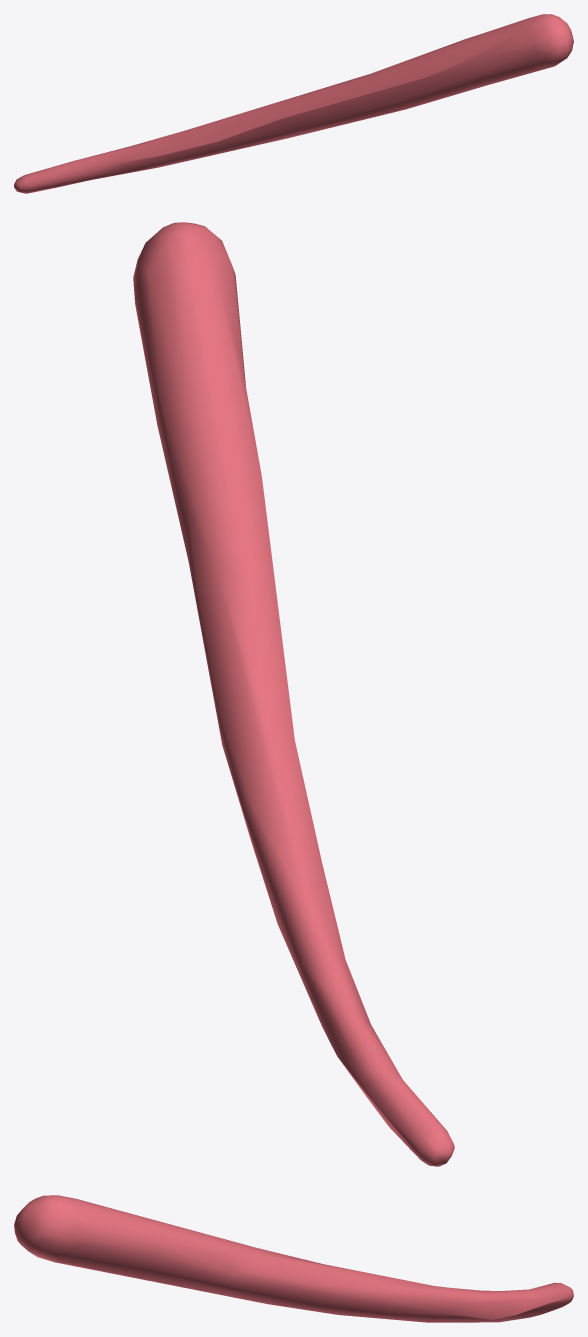
The model's file is fma9428_fj6118.glb.
The picture shows the model from 3 angles, top to bottom: view 1: azimuth 30°, elevation 25°; view 2: azimuth 150°, elevation 25°; view 3: azimuth 270°, elevation 25°; orthographic projection. The views are drawn at different scales.
Visible parts, largest first — view 1: FMA9428_FJ6118; view 2: FMA9428_FJ6118; view 3: FMA9428_FJ6118.
Boxes of the visible parts, left/top/right/bottom form: FMA9428_FJ6118: left=14, top=14, right=573, bottom=193; FMA9428_FJ6118: left=133, top=222, right=454, bottom=1166; FMA9428_FJ6118: left=14, top=1195, right=573, bottom=1322.
Size of the model in its own units: 0.0429 by 0.0281 by 0.0458.
